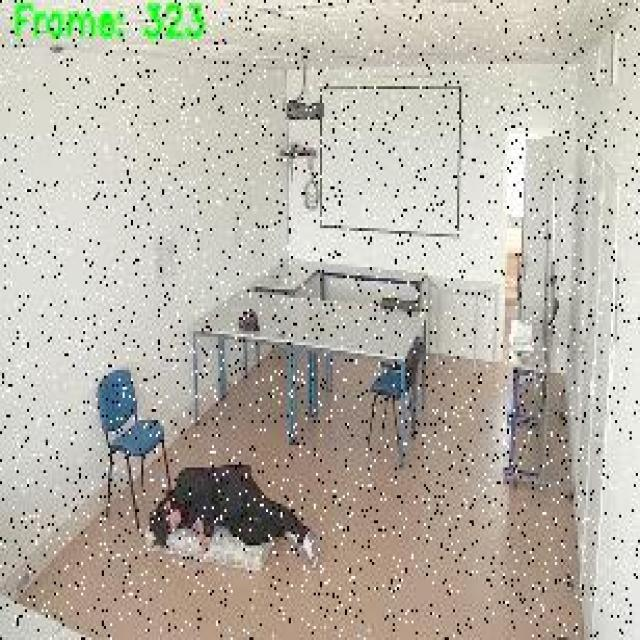fall: (146, 459, 324, 579)
